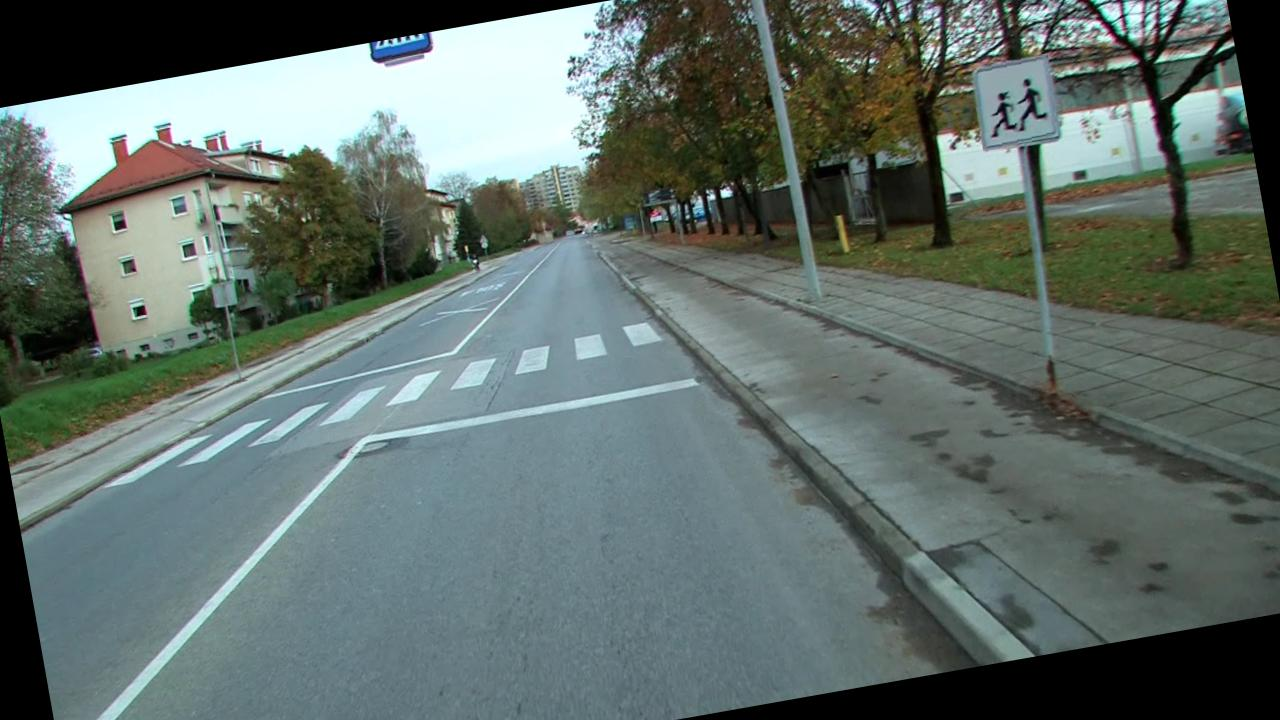Squared: (968, 53, 1062, 153), (367, 33, 435, 62)
